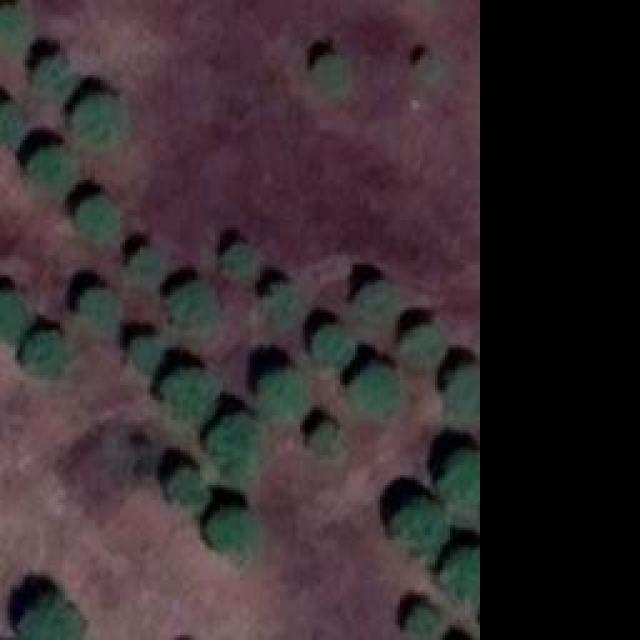Tree: (208, 415, 258, 478), (260, 370, 313, 425), (160, 373, 218, 423), (350, 368, 398, 418), (440, 453, 478, 516), (398, 503, 448, 548), (22, 602, 80, 640), (75, 95, 123, 140), (210, 508, 258, 551), (170, 285, 213, 330), (313, 325, 358, 368), (78, 198, 121, 241), (448, 550, 478, 608), (28, 333, 71, 373), (33, 148, 73, 191), (357, 285, 395, 328), (403, 325, 443, 365), (453, 365, 478, 428), (268, 283, 303, 326), (80, 290, 120, 325), (315, 55, 353, 90), (313, 422, 348, 460), (0, 7, 32, 47), (0, 290, 25, 340), (38, 58, 73, 93), (223, 245, 258, 278), (0, 103, 28, 143), (173, 470, 206, 503), (130, 338, 160, 371), (130, 248, 160, 281), (410, 605, 440, 635), (420, 53, 440, 78)
